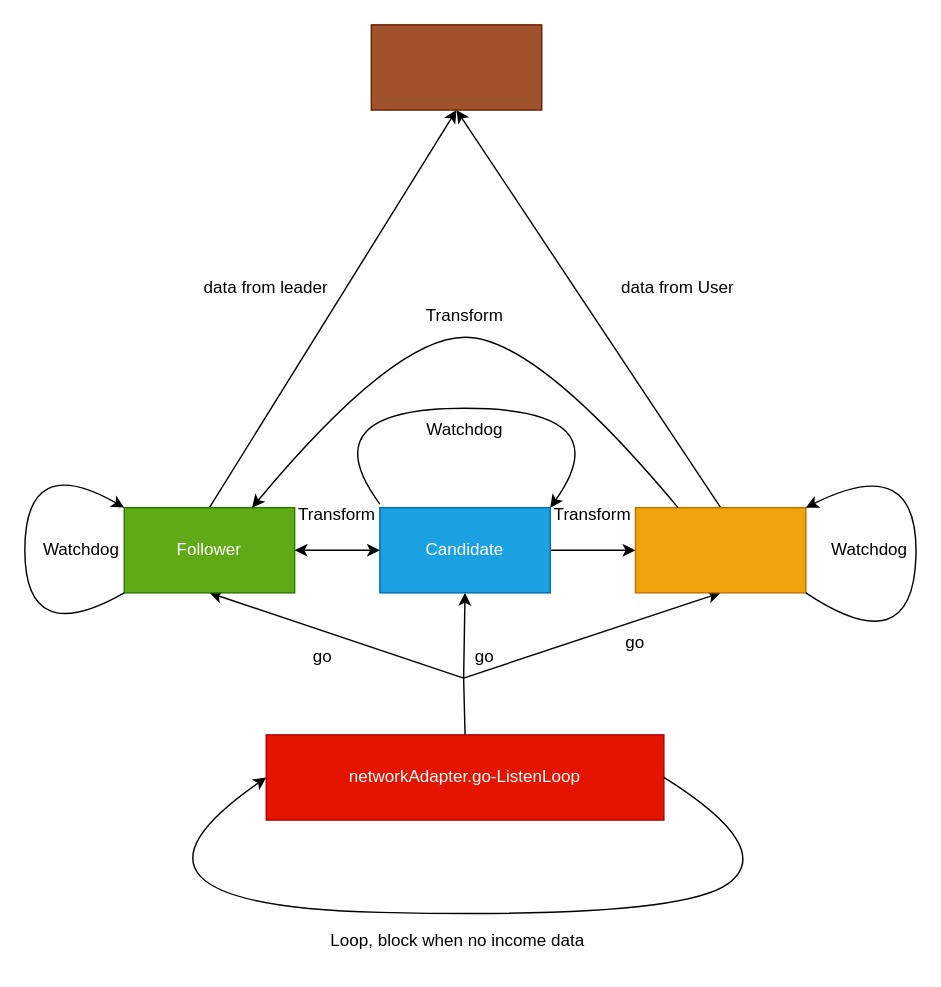
Image size: 941x987. Some labels were removed from this diagram. The shapes that lost their labels are listed below. From the top down, each one's centre as x and y in pixels, then its label:
the point at 456,66: store
the point at 720,549: Leader
